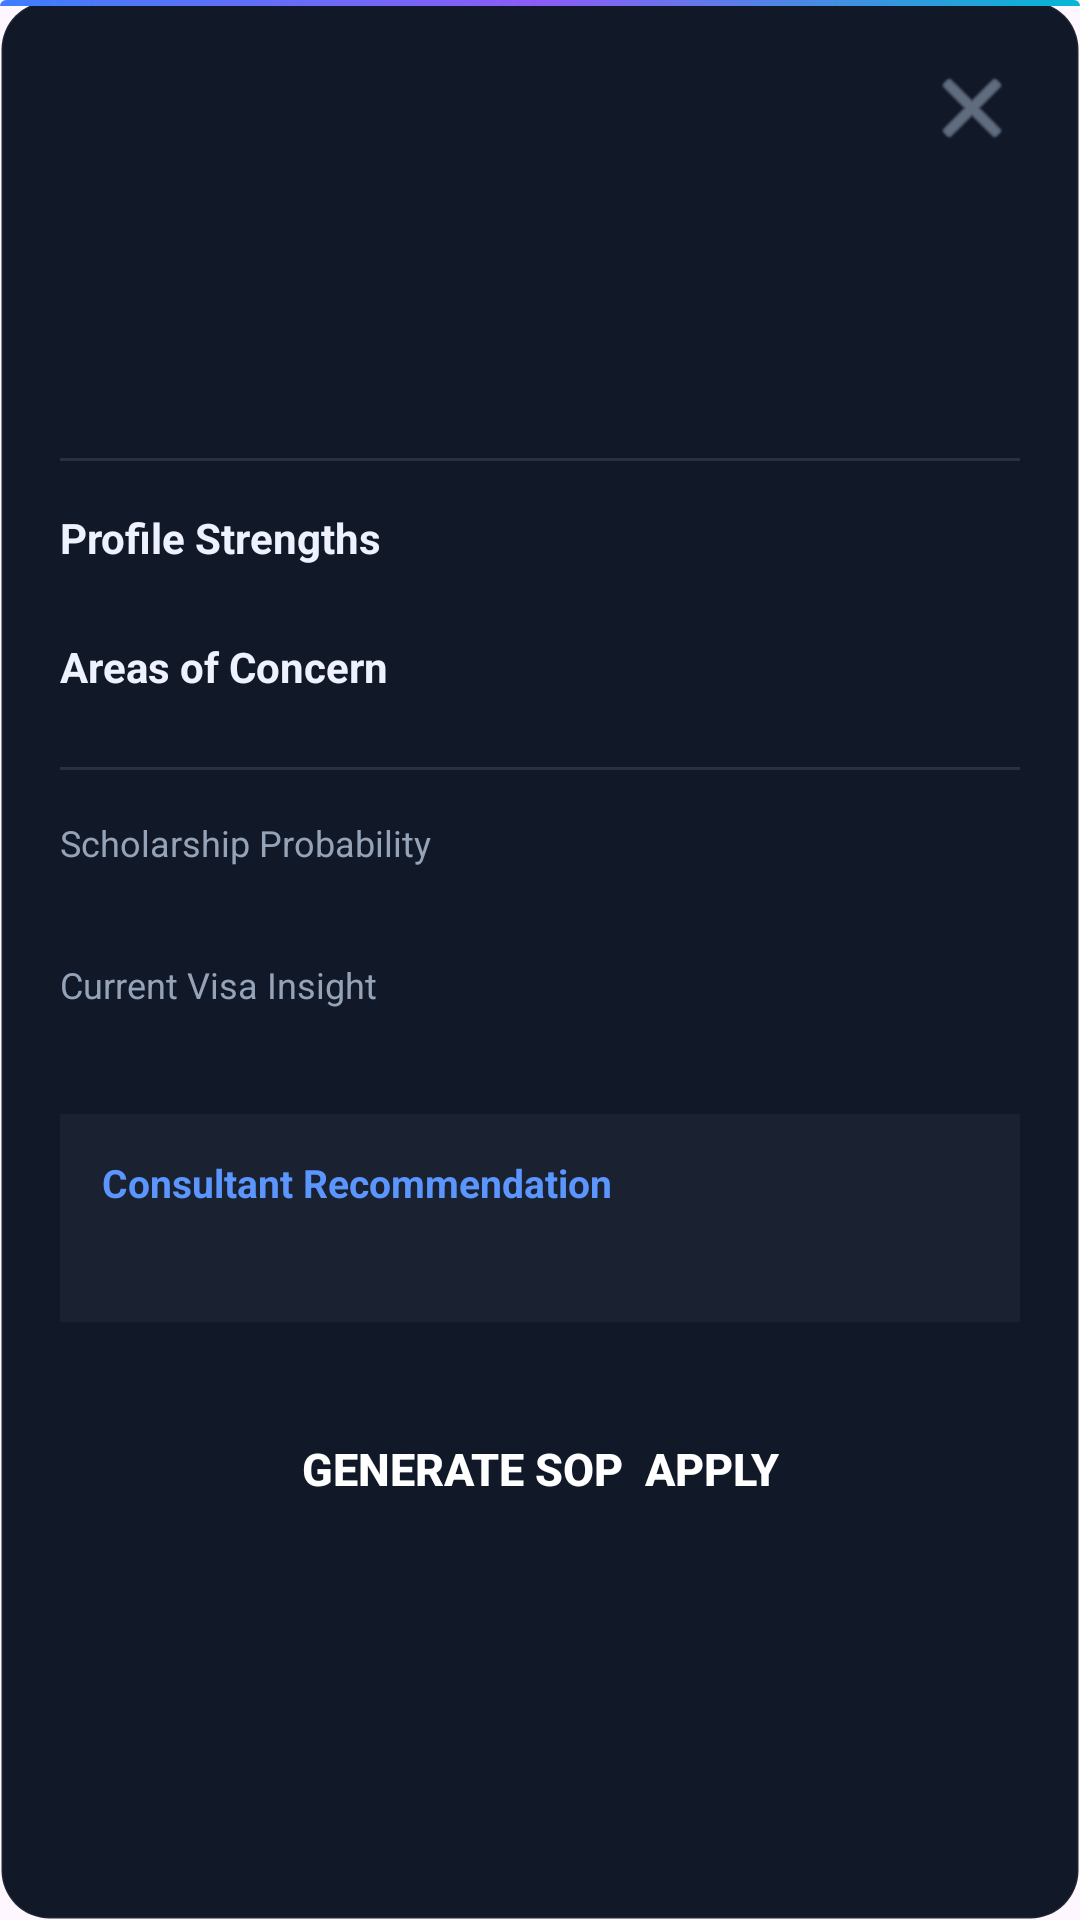

Named icons in this screenshot (1080 x 1920) and their bounding boxes, (x1, y1, x2, y2):
close clear cancel: (942, 78, 1002, 138)
